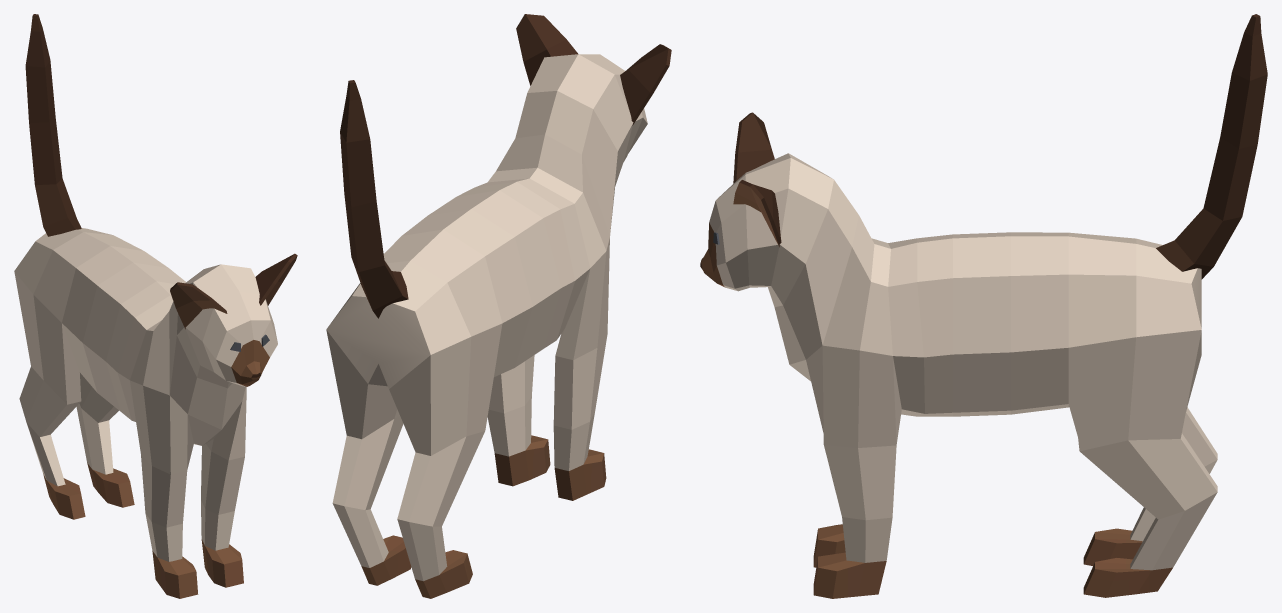
The model's file is cat.glb.
3 renders of one model, left to right at view 1: azimuth 30°, elevation 25°; view 2: azimuth 150°, elevation 25°; view 3: azimuth 270°, elevation 25°, orthographic. The views are drawn at different scales.
Parts seen in each view (by area): view 1: Geo_Kitten; view 2: Geo_Kitten; view 3: Geo_Kitten.
Boxes of the visible parts, x1,y1,x2,y2 form: Geo_Kitten: (14,14,297,598); Geo_Kitten: (326,14,671,598); Geo_Kitten: (700,14,1267,598).
Size of the model in its own units: 0.0943 by 0.32 by 0.2938.
Materials: 1 (1 with a texture image).
